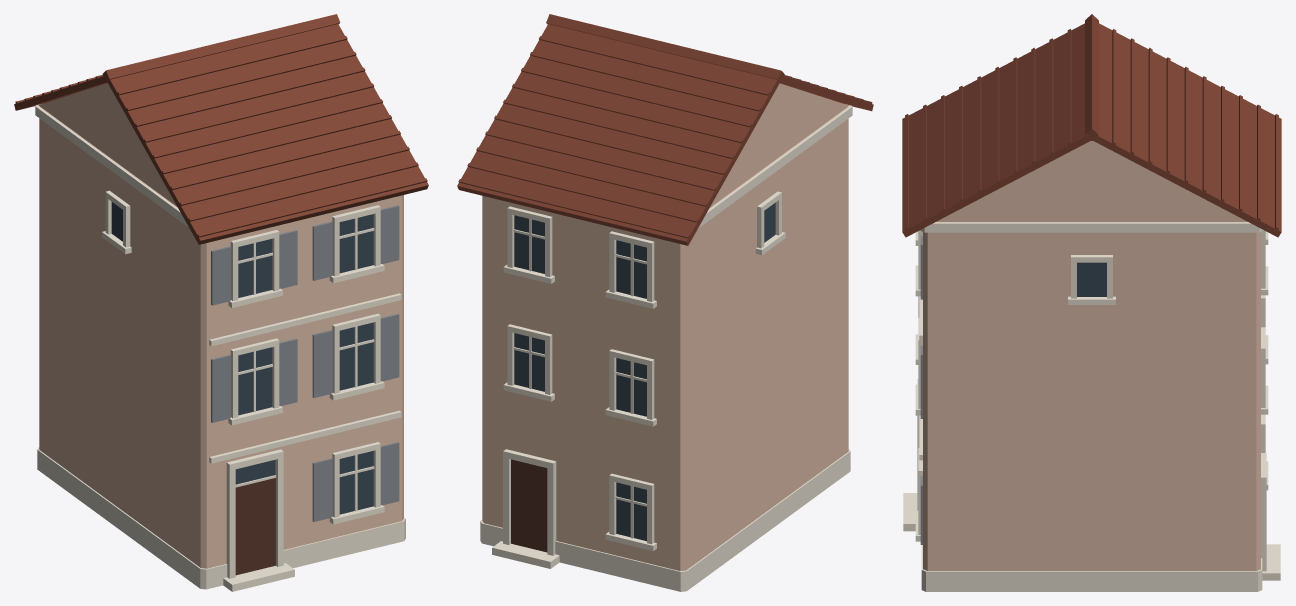
Rendered from maison-d.glb.
3 renders of one model, left to right at view 1: azimuth 30°, elevation 25°; view 2: azimuth 150°, elevation 25°; view 3: azimuth 270°, elevation 25°, orthographic.
Visible parts, largest first — view 1: maison-d; view 2: maison-d; view 3: maison-d.
Part boxes in pixels (left/top/right/bottom): maison-d: left=14, top=14, right=428, bottom=591; maison-d: left=457, top=14, right=873, bottom=591; maison-d: left=902, top=14, right=1281, bottom=591.
Size of the model in its own units: 5.46 by 10.44 by 7.64.
